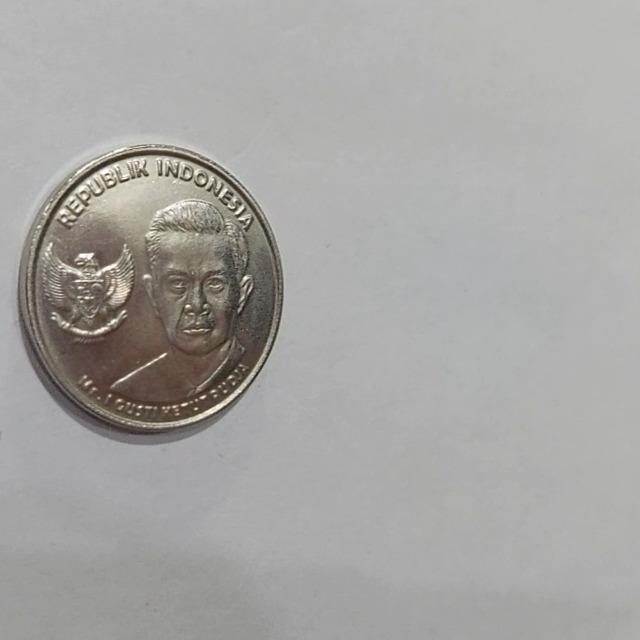Rp100: (17, 142, 284, 435), (107, 196, 256, 405)
